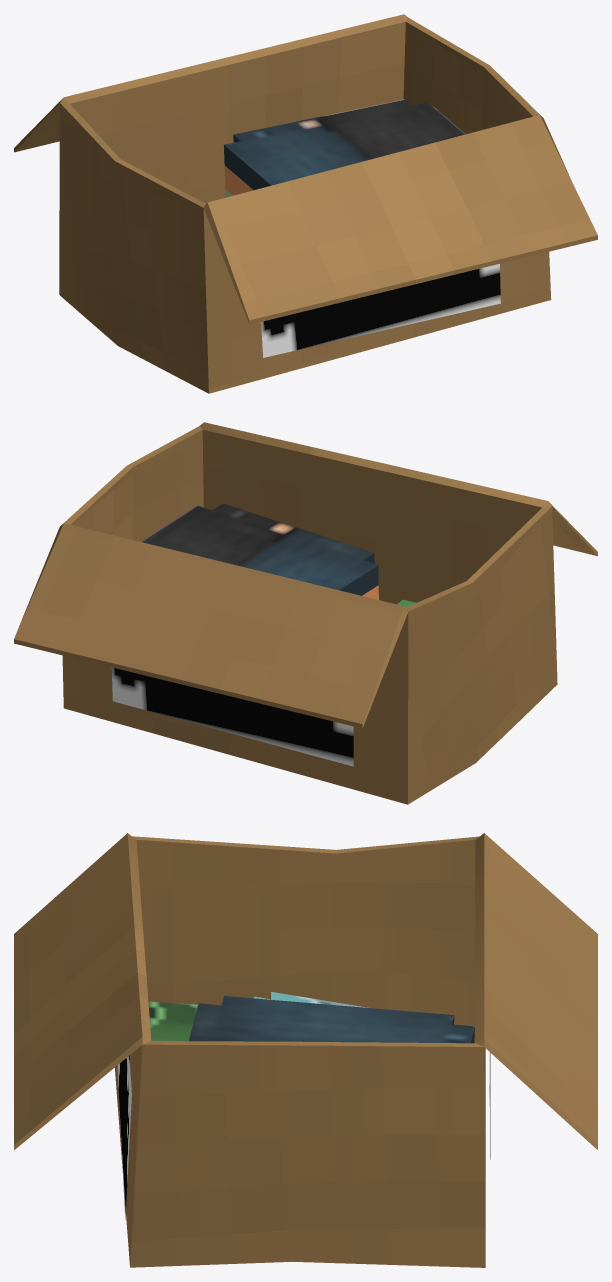
Rendered from MB_Clothes.fbx.
The picture shows the model from 3 angles, top to bottom: view 1: azimuth 30°, elevation 25°; view 2: azimuth 150°, elevation 25°; view 3: azimuth 270°, elevation 25°; orthographic projection. The views are drawn at different scales.
Parts seen in each view (by area): view 1: MovingBox_Clothes; view 2: MovingBox_Clothes; view 3: MovingBox_Clothes.
Part boxes in pixels (<box>): MovingBox_Clothes: <box>14,14,597,393</box>; MovingBox_Clothes: <box>14,422,597,804</box>; MovingBox_Clothes: <box>14,833,597,1267</box>.
Size of the model in its own units: 36.93 by 19.7 by 41.75.
Materials: 3 (3 with a texture image).
